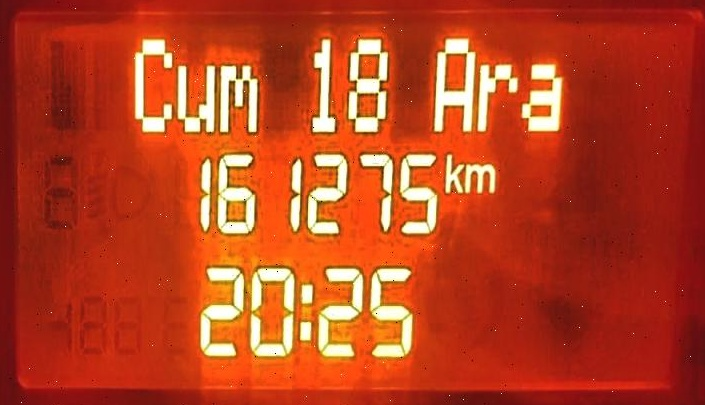0: (249, 262, 296, 360)
1: (304, 32, 339, 136), (192, 153, 214, 234), (285, 154, 305, 234)
2: (317, 261, 365, 361), (197, 261, 245, 359), (307, 149, 348, 236)
5: (369, 261, 416, 361), (396, 147, 437, 236)
6: (215, 149, 257, 237)
7: (354, 147, 395, 236)
8: (346, 31, 391, 136)
X: (129, 32, 175, 136), (431, 35, 474, 134), (518, 58, 564, 135), (217, 60, 261, 135), (175, 60, 217, 136), (475, 58, 518, 132), (296, 278, 315, 344), (463, 161, 497, 194), (442, 149, 461, 197)
